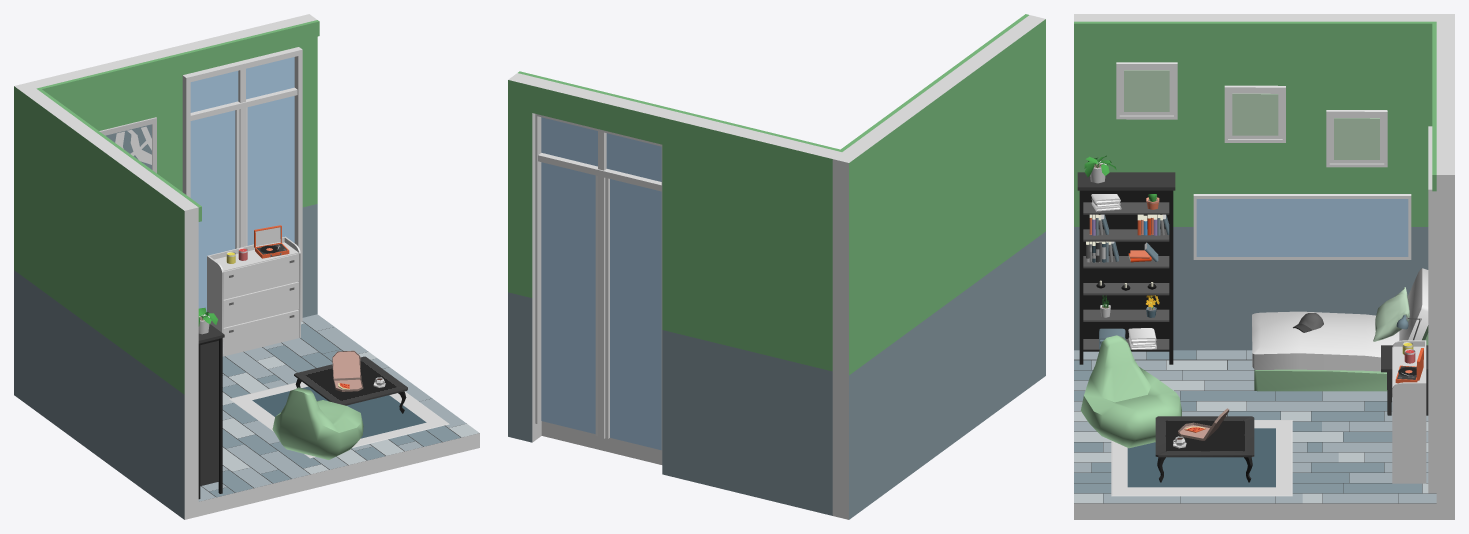
The model's file is room_11.glb.
3 renders of one model, left to right at view 1: azimuth 30°, elevation 25°; view 2: azimuth 150°, elevation 25°; view 3: azimuth 270°, elevation 25°, orthographic. The views are drawn at different scales.
Visible parts, largest first — view 1: Walls_080.002, Walls_116.004, window_009.001, floor_010.002, shelf_030.001, Walls_080.003, Walls_011.005, Walls_087.001, carpet_004.003, office_chair_023.001, shelf_048.001, Walls_080.001 (+7 smaller); view 2: Walls_080.002, window_009.001, Walls_080.003, Walls_116.004, Walls_116.005, Walls_080.001, Walls_080.004, Walls_116.003, Walls_011.005, Walls_087.001, Walls_087.002; view 3: Walls_080.002, floor_010.002, Walls_116.004, picture_054.001, shelf_048.001, bed_024.001, carpet_004.003, Walls_011.005, office_chair_023.001, Walls_087.002, shelf_030.001, Walls_080.001 (+17 smaller).
Part boxes in pixels (x1,y1,x2,y2): Walls_080.002: (14,82,198,394); Walls_116.004: (14,270,198,519); window_009.001: (182,47,302,321); floor_010.002: (198,314,479,501); shelf_030.001: (207,236,300,356); Walls_080.003: (28,46,183,191); Walls_011.005: (198,321,479,516); Walls_087.001: (36,20,319,99); carpet_004.003: (229,382,449,458); office_chair_023.001: (272,387,363,459); shelf_048.001: (198,324,224,499); Walls_080.001: (288,14,317,207); Walls_080.002: (832,15,1045,375); window_009.001: (535,114,662,454); Walls_080.003: (662,110,841,371); Walls_116.004: (832,231,1045,519); Walls_116.005: (662,330,832,515); Walls_080.001: (508,73,540,298); Walls_080.004: (532,79,670,144); Walls_116.003: (508,292,541,442); Walls_011.005: (541,421,662,464); Walls_087.001: (518,71,843,151); Walls_087.002: (841,14,1028,150); Walls_080.002: (1074,14,1454,226); floor_010.002: (1074,350,1436,503); Walls_116.004: (1074,227,1428,350); picture_054.001: (1193,194,1411,259); shelf_048.001: (1077,172,1175,364); bed_024.001: (1252,268,1428,391); carpet_004.003: (1111,420,1292,496); Walls_011.005: (1074,350,1436,519); office_chair_023.001: (1080,335,1181,448); Walls_087.002: (1074,21,1432,39); shelf_030.001: (1392,340,1426,483); Walls_080.001: (1436,163,1454,380).
Bounding box in the file's own units: 4.2 × 4.2 × 4.2.
1 material, 1 textured.
